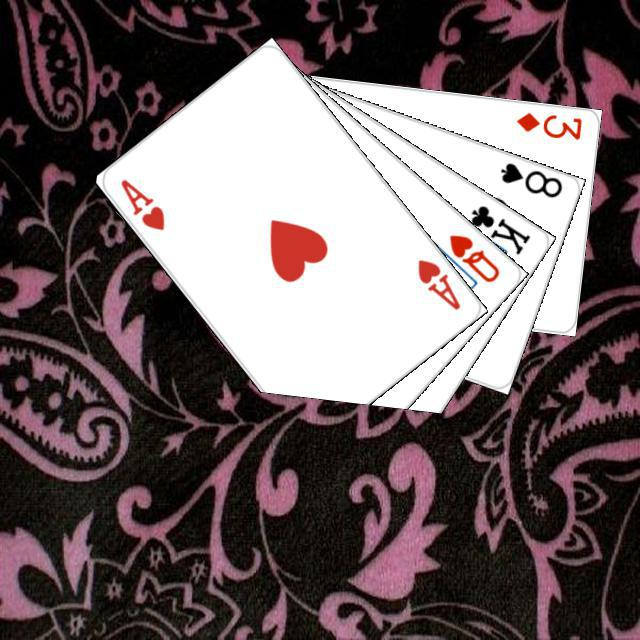3d: (511, 107, 583, 142)
8s: (495, 157, 564, 200)
Ah: (115, 173, 167, 232), (412, 254, 463, 312)
Kc: (452, 200, 532, 257)
Qh: (443, 229, 502, 284)
